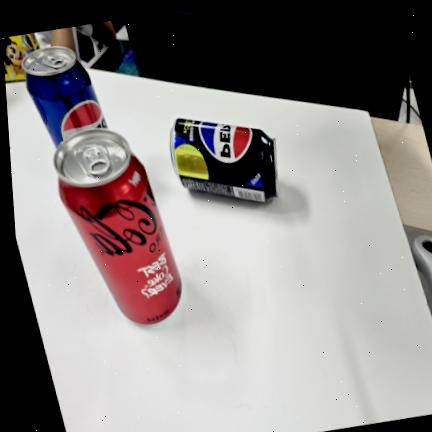can_coke_zero: (53, 128, 182, 325)
can_pepsi: (24, 46, 108, 148)
can_pepsi_zero: (170, 118, 278, 202)
